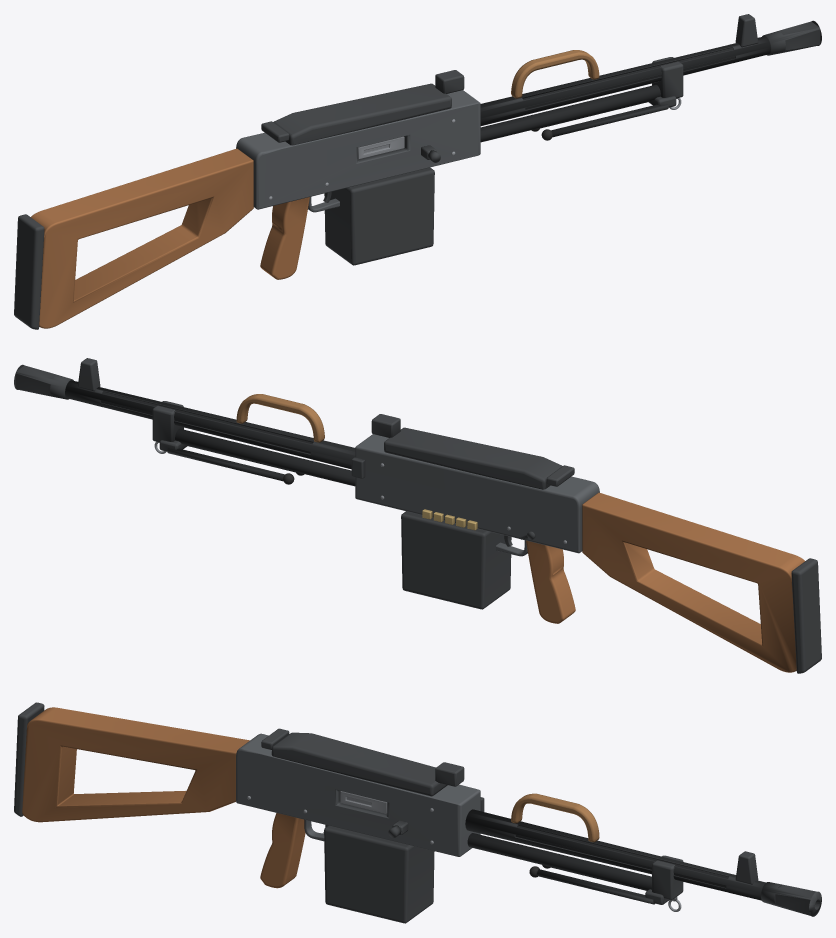
The model's file is pkm.glb.
3 views of the same model, one above another, from view 1: azimuth 30°, elevation 25°; view 2: azimuth 150°, elevation 25°; view 3: azimuth 330°, elevation 25° (orthographic).
Parts seen in each view (by area): view 1: stock, receiver, mag, barrel, feed_cover, buttplate, gas_tube, grip_part, carry_handle, flash_hider, bipod_leg-1, gas_block (+3 smaller); view 2: stock, receiver, mag, barrel, feed_cover, buttplate, gas_tube, grip_part, carry_handle, flash_hider, bipod_leg1, gas_block (+2 smaller); view 3: stock, receiver, mag, barrel, feed_cover, gas_tube, grip_part, flash_hider, carry_handle, buttplate, gas_block, bipod_leg-1 (+3 smaller).
Part boxes in pixels (<box>): stock: <box>31,148,253,328</box>; receiver: <box>236,90,480,209</box>; mag: <box>324,167,434,265</box>; barrel: <box>480,36,770,125</box>; feed_cover: <box>273,83,451,145</box>; buttplate: <box>14,214,44,329</box>; gas_tube: <box>480,84,660,142</box>; grip_part: <box>260,197,309,279</box>; carry_handle: <box>511,50,599,98</box>; flash_hider: <box>762,20,821,55</box>; bipod_leg-1: <box>551,104,668,137</box>; gas_block: <box>652,57,683,98</box>; stock: <box>582,492,804,672</box>; receiver: <box>355,434,599,553</box>; mag: <box>401,511,511,609</box>; barrel: <box>65,380,355,469</box>; feed_cover: <box>384,427,562,489</box>; buttplate: <box>791,558,821,673</box>; gas_tube: <box>175,428,355,486</box>; grip_part: <box>526,540,575,623</box>; carry_handle: <box>236,394,324,442</box>; flash_hider: <box>14,364,73,399</box>; bipod_leg1: <box>167,448,284,481</box>; gas_block: <box>152,401,183,442</box>; stock: <box>22,707,249,822</box>; receiver: <box>236,733,480,856</box>; mag: <box>324,825,434,923</box>; barrel: <box>465,809,765,900</box>; feed_cover: <box>271,732,447,796</box>; gas_tube: <box>467,833,651,890</box>; grip_part: <box>260,813,305,888</box>; flash_hider: <box>761,882,821,916</box>; carry_handle: <box>511,793,599,842</box>; buttplate: <box>14,702,44,816</box>; gas_block: <box>652,855,683,899</box>; bipod_leg-1: <box>537,869,654,904</box>.
Bounding box in the file's own units: 1.13 × 0.215 × 0.089.
